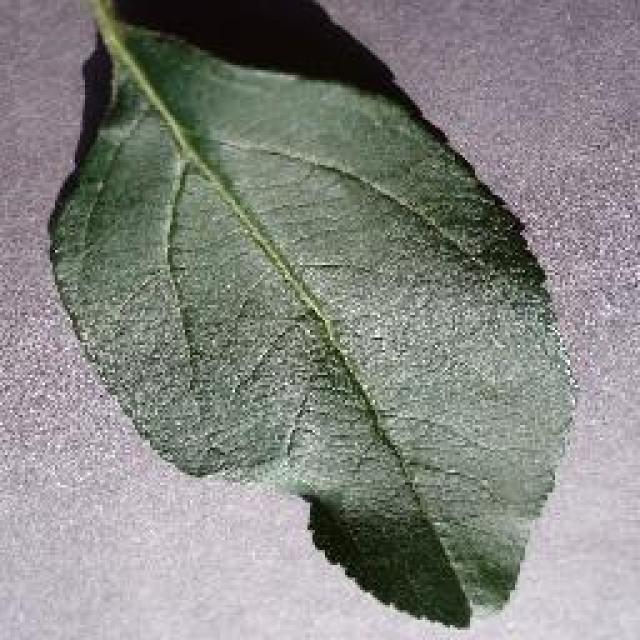apple healthy: (42, 0, 580, 628)
